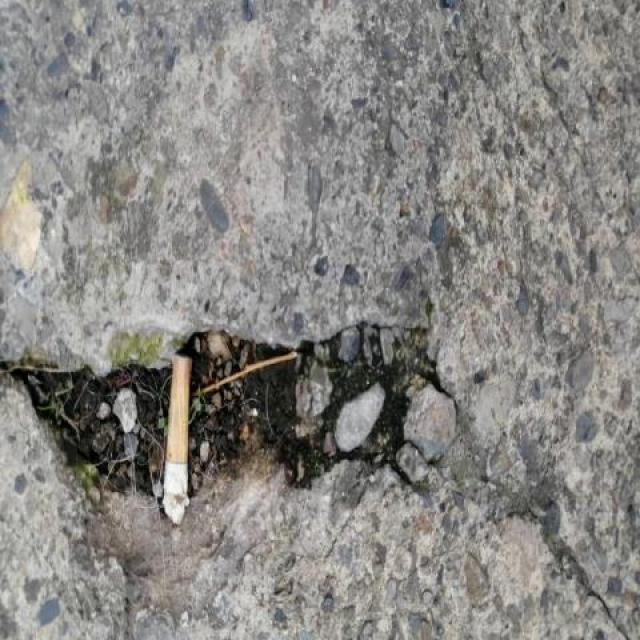non-organic waste: (157, 349, 195, 499)
